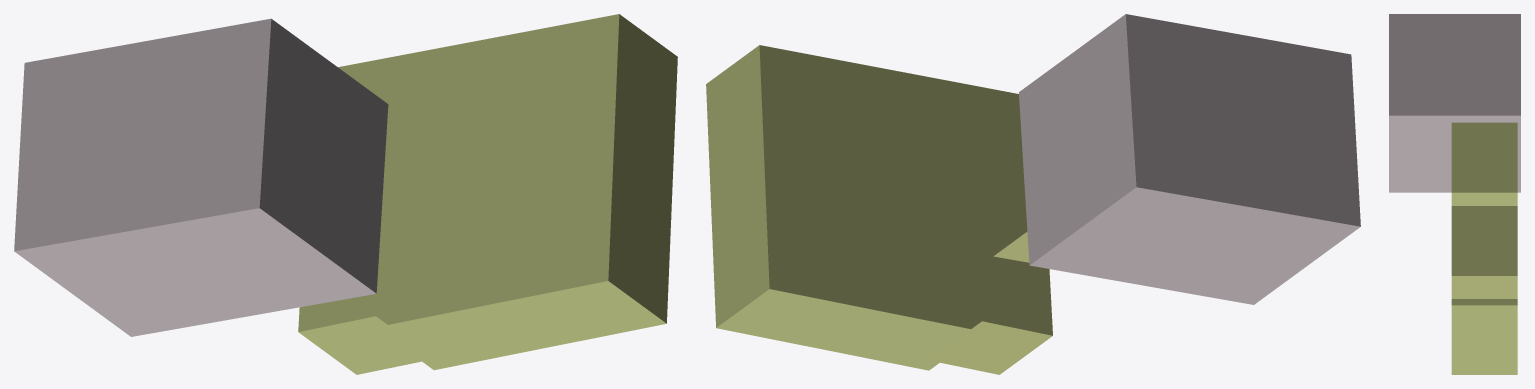
The picture shows the model from 3 angles, left to right: view 1: azimuth 30°, elevation 25°; view 2: azimuth 150°, elevation 25°; view 3: azimuth 270°, elevation 25°; orthographic projection. The views are drawn at different scales.
Parts seen in each view (by area): view 1: 0_3_2_0_2_1_3_0_3; view 2: 0_3_2_0_2_1_3_0_3; view 3: 0_3_2_0_2_1_3_0_3.
Boxes of the visible parts, bbox=[...] form: 0_3_2_0_2_1_3_0_3: bbox=[14, 14, 677, 374]; 0_3_2_0_2_1_3_0_3: bbox=[706, 14, 1360, 374]; 0_3_2_0_2_1_3_0_3: bbox=[1389, 14, 1520, 374].
Size of the model in its own units: 35.66 by 20.23 by 12.
